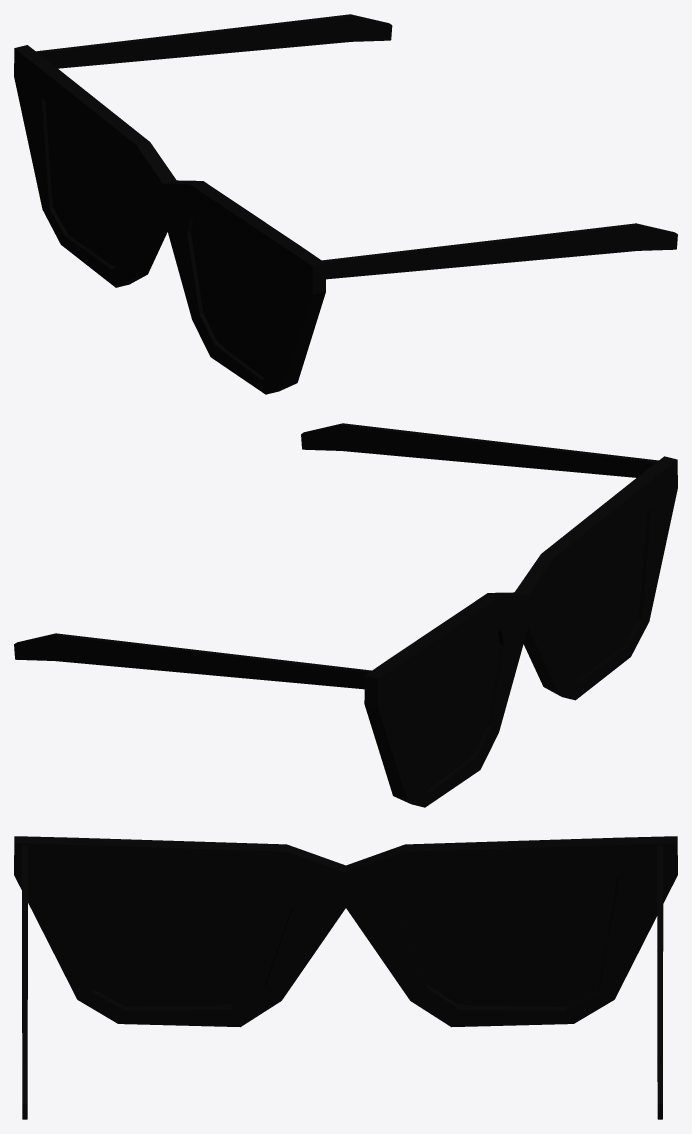
The model's file is SM_Sunglasses.fbx.
The picture shows the model from 3 angles, top to bottom: view 1: azimuth 30°, elevation 25°; view 2: azimuth 150°, elevation 25°; view 3: azimuth 270°, elevation 25°; orthographic projection. The views are drawn at different scales.
Parts seen in each view (by area): view 1: SM_Sunglasses; view 2: SM_Sunglasses; view 3: SM_Sunglasses.
Part boxes in pixels (x1,y1,x2,y2): SM_Sunglasses: (14, 14, 677, 394); SM_Sunglasses: (14, 423, 677, 807); SM_Sunglasses: (14, 836, 677, 1119).
Size of the model in its own units: 13.38 by 18.71 by 5.71.
Materials: 1 (1 with a texture image).
